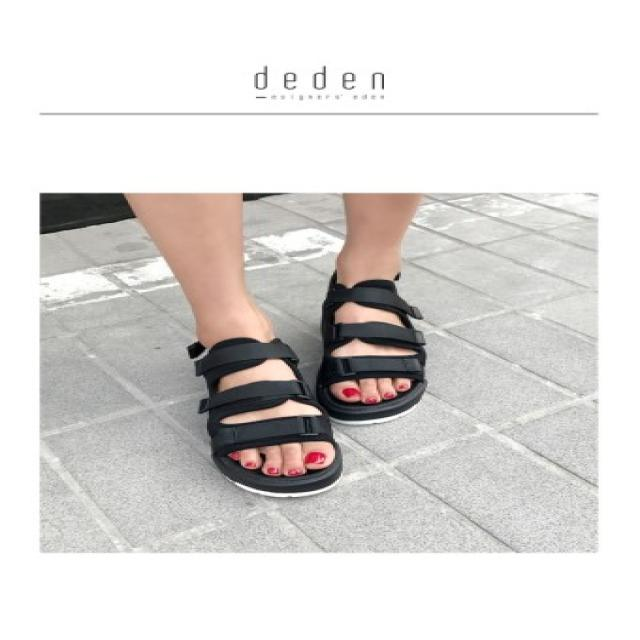no-boots: (149, 342, 337, 511), (318, 287, 459, 428)
